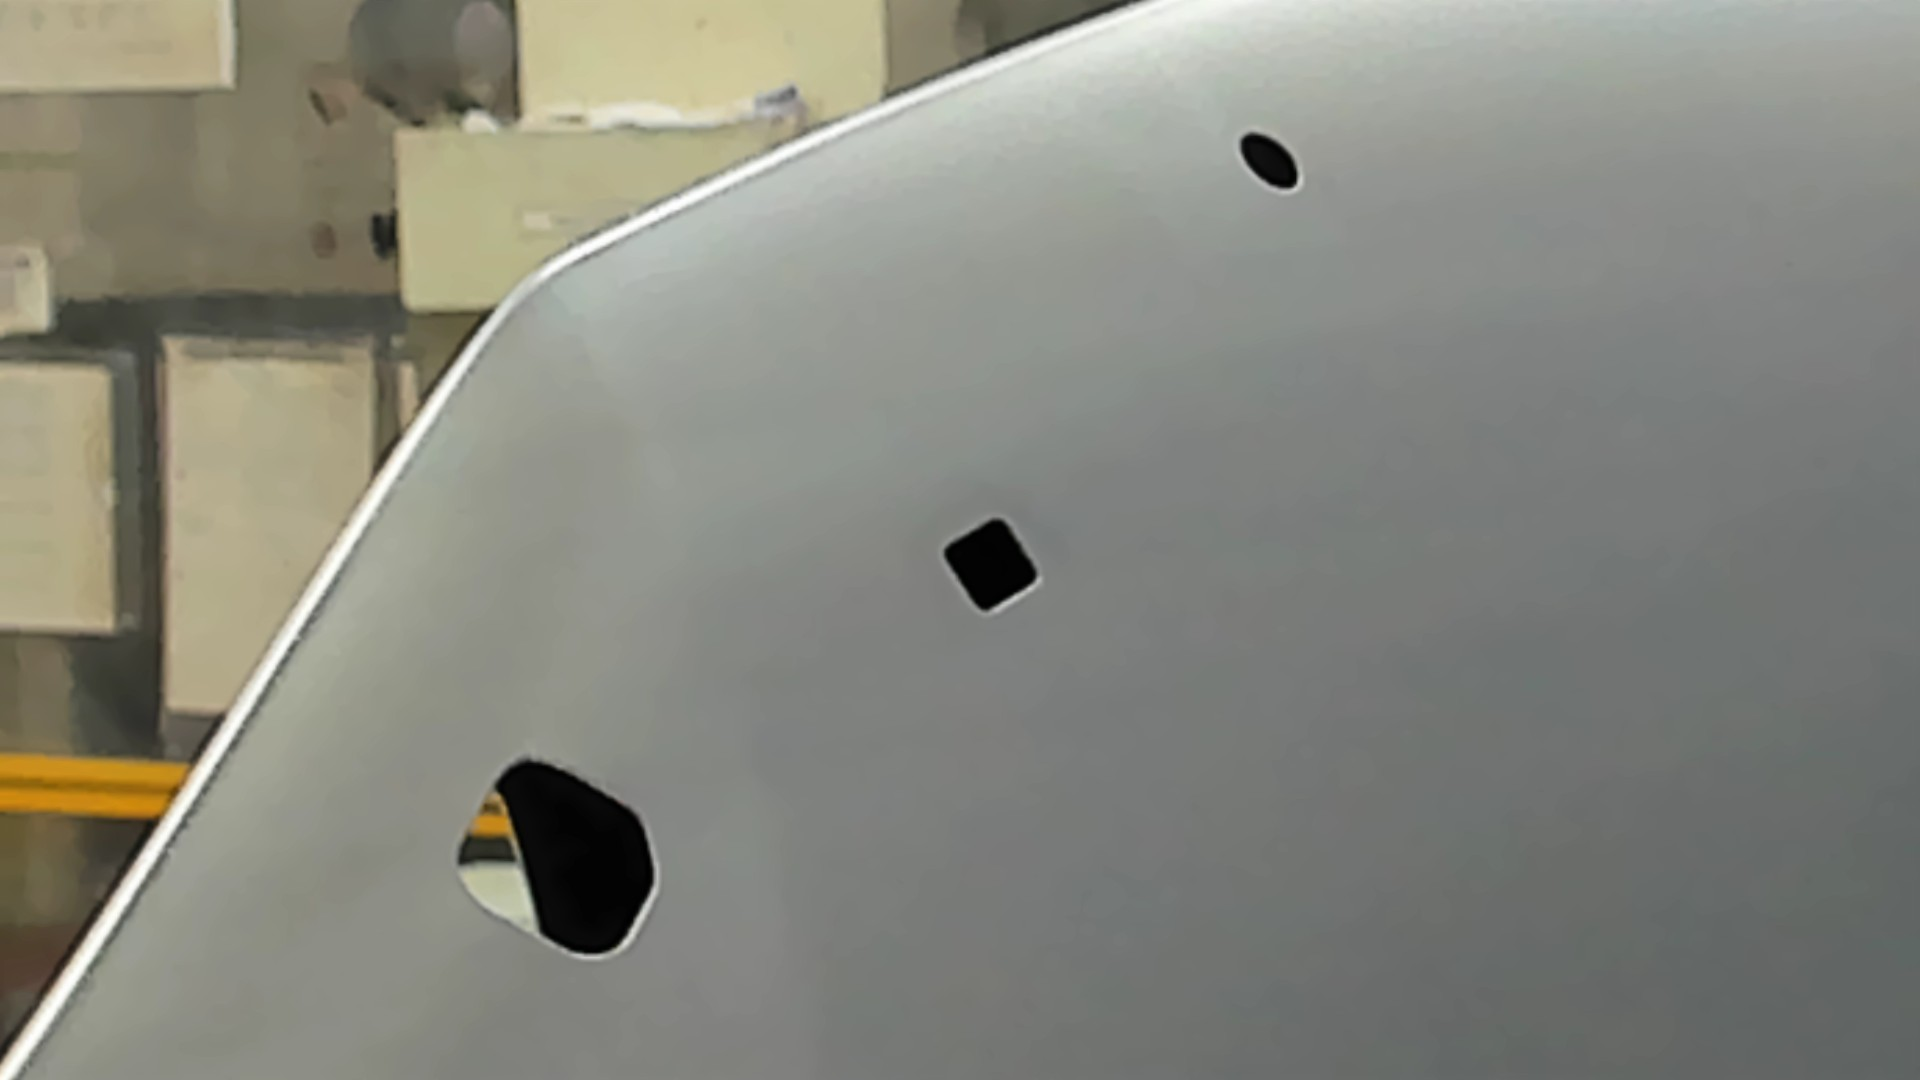chico: (1237, 127, 1302, 193)
grande: (455, 754, 665, 965)
mediano: (942, 514, 1046, 618)
